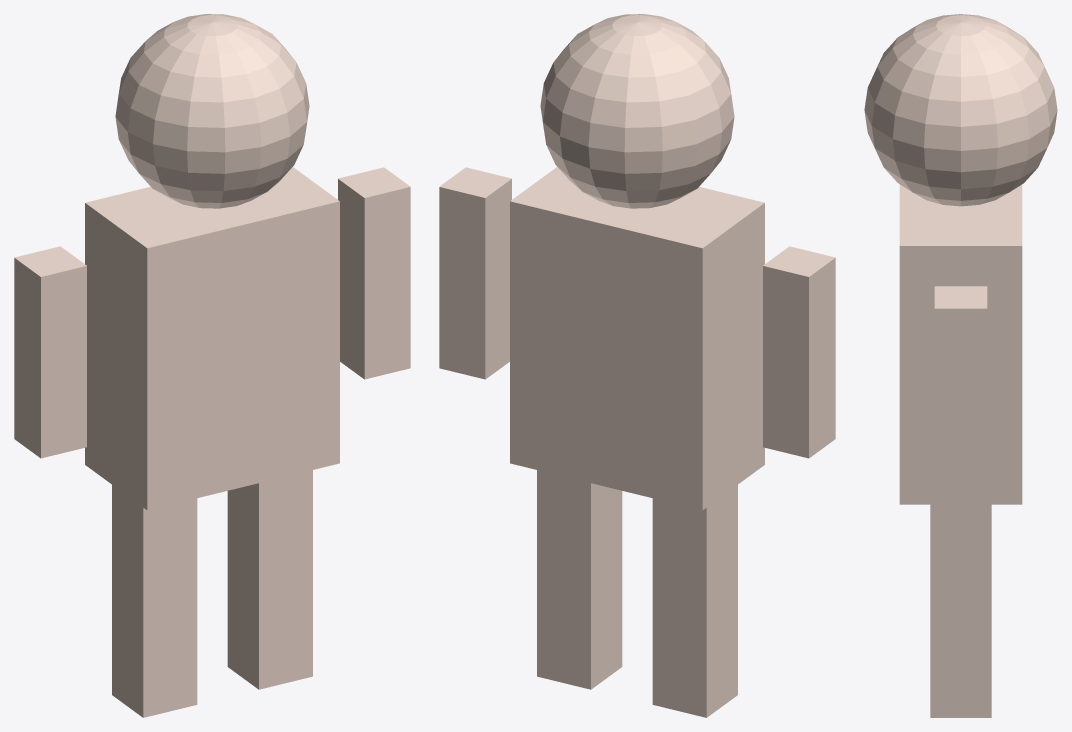
The model's file is player.glb.
The picture shows the model from 3 angles, left to right: view 1: azimuth 30°, elevation 25°; view 2: azimuth 150°, elevation 25°; view 3: azimuth 270°, elevation 25°; orthographic projection.
Visible parts, largest first — view 1: Player.001; view 2: Player.001; view 3: Player.001.
Boxes of the visible parts, <box> form: Player.001: <box>14,14,410,717</box>; Player.001: <box>439,14,835,717</box>; Player.001: <box>864,14,1057,717</box>.
Size of the model in its own units: 0.96 by 1.65 by 0.44.
